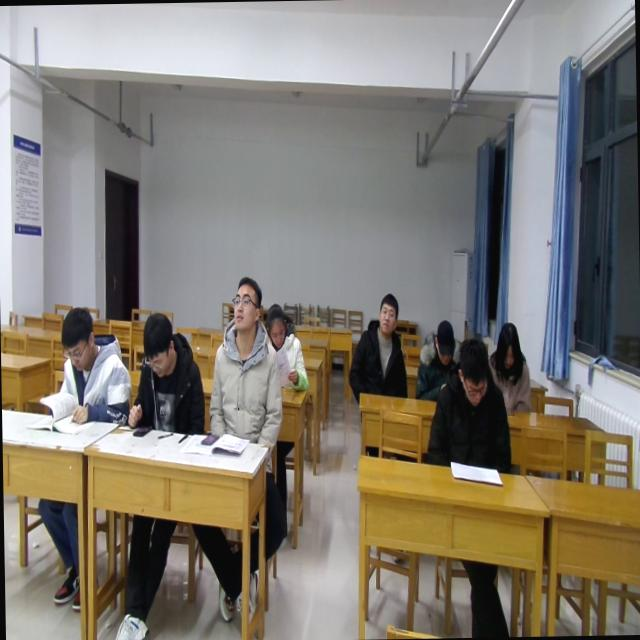bow: (414, 319, 466, 404)
down: (56, 302, 98, 373), (455, 334, 492, 411), (139, 307, 175, 378), (494, 315, 524, 370), (429, 316, 456, 370), (264, 297, 289, 348)
lookup: (228, 270, 264, 338), (375, 288, 401, 337)
sit: (204, 274, 285, 456), (426, 338, 514, 476), (124, 310, 206, 434), (55, 304, 130, 428), (345, 292, 409, 402), (264, 300, 310, 397), (486, 320, 532, 413)
